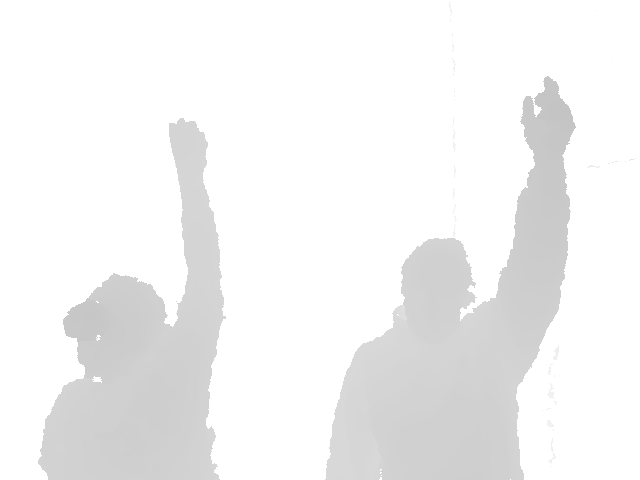hand: (521, 77, 576, 162), (170, 119, 208, 186)
head: (62, 275, 168, 388), (400, 237, 473, 336)
person: (324, 76, 576, 480), (35, 119, 225, 480)
